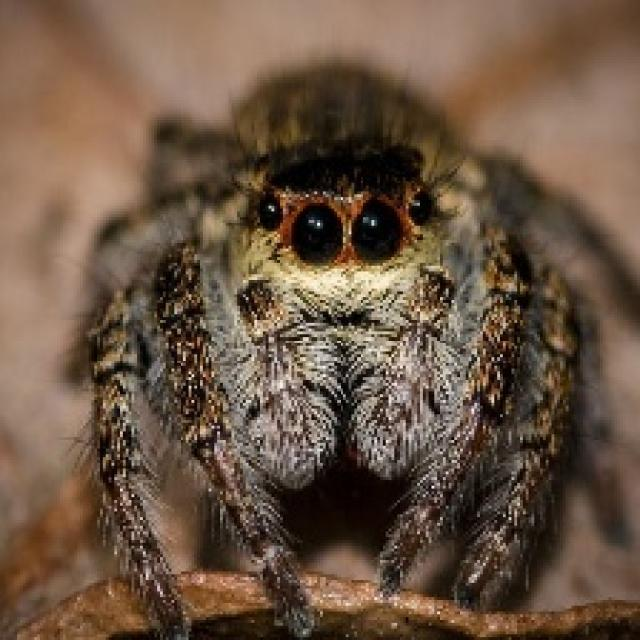Non venomous spider: (22, 59, 609, 566)
